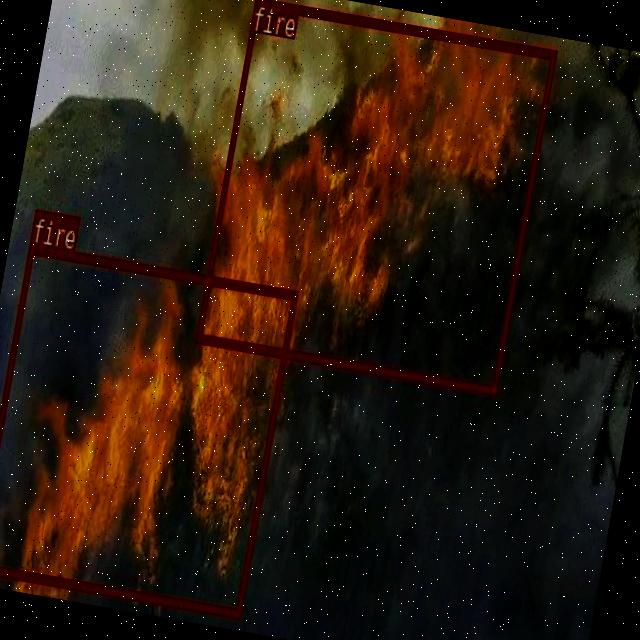fire: (194, 0, 556, 393), (0, 242, 297, 616)
